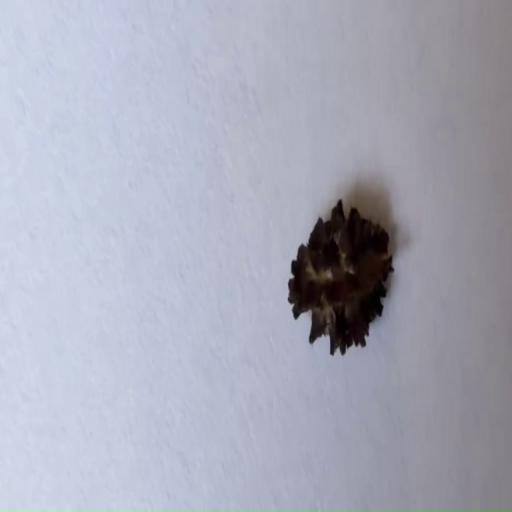papaya_seed: (287, 182, 402, 370)
